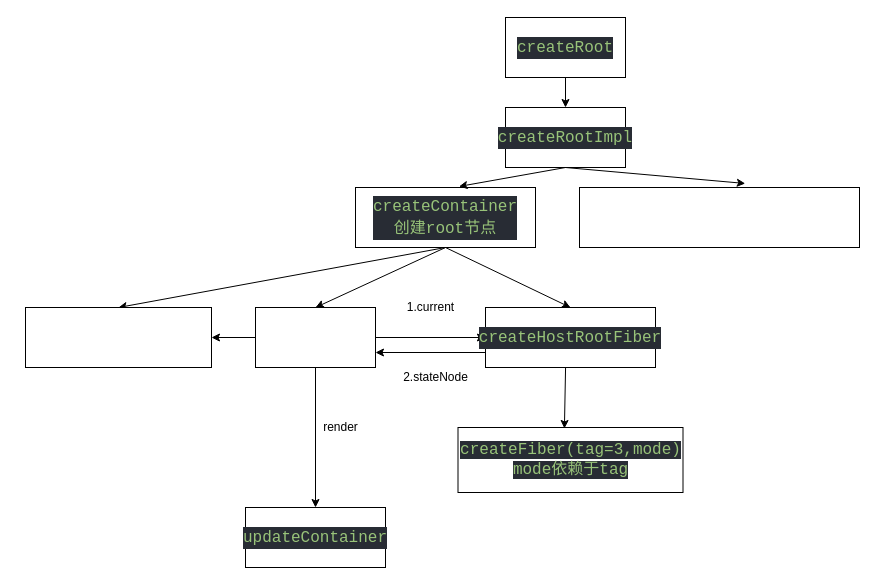
Some shapes in this 877 by 585 pixel diagram are drawn without their labels. The centre of each missing label's shape, as x and y in pixels:
"FiberRootNode root" goes at (x=315, y=337).
"initializeUpdateQueue" goes at (x=118, y=337).
"listenToAllSupportedEvents 监听所有事件" goes at (x=719, y=217).
